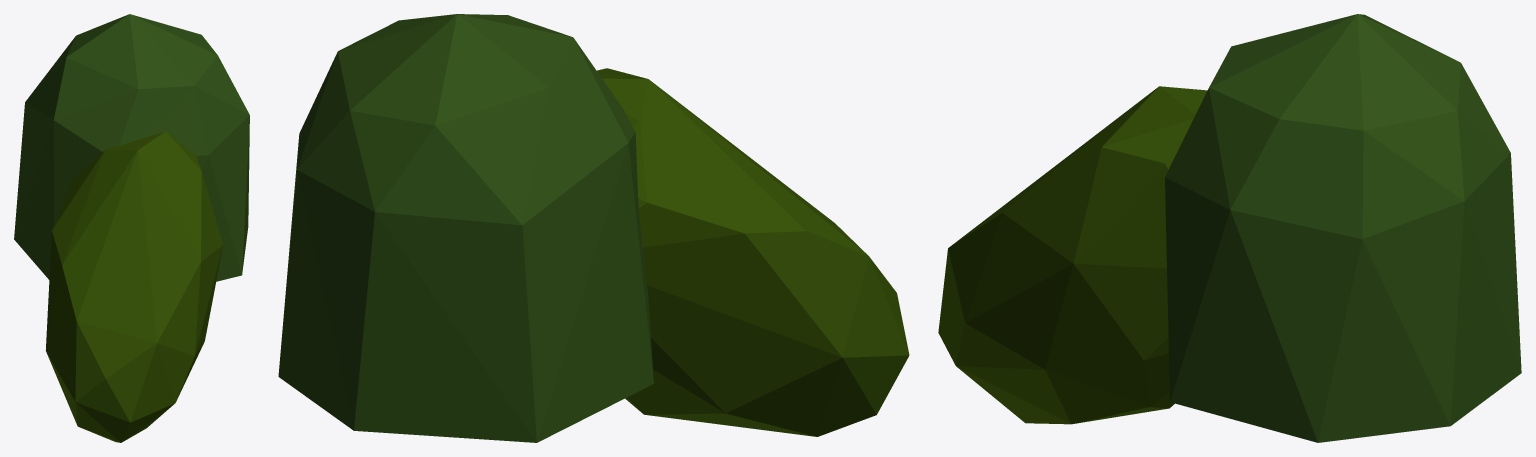
File: Bush.005.fbx
3 renders of one model, left to right at view 1: azimuth 30°, elevation 25°; view 2: azimuth 150°, elevation 25°; view 3: azimuth 270°, elevation 25°, orthographic. The views are drawn at different scales.
Parts seen in each view (by area): view 1: Bush.005; view 2: Bush.005; view 3: Bush.005.
Boxes of the visible parts, x1=… form: Bush.005: x1=14, y1=14, x2=249, y2=442; Bush.005: x1=278, y1=14, x2=909, y2=442; Bush.005: x1=938, y1=14, x2=1521, y2=442.
Bounding box in the file's own units: 1.18 × 1.28 × 1.41.
